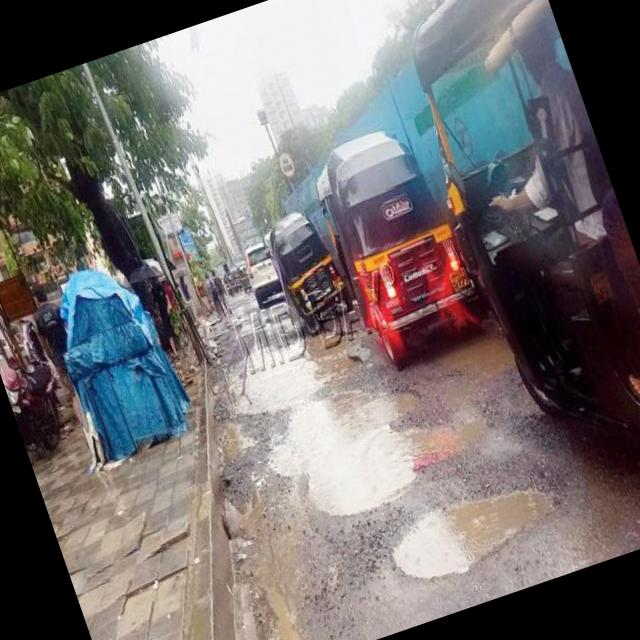Potholes: (256, 353, 462, 552), (383, 458, 584, 597), (392, 296, 532, 420), (215, 308, 367, 418), (183, 364, 260, 477)
